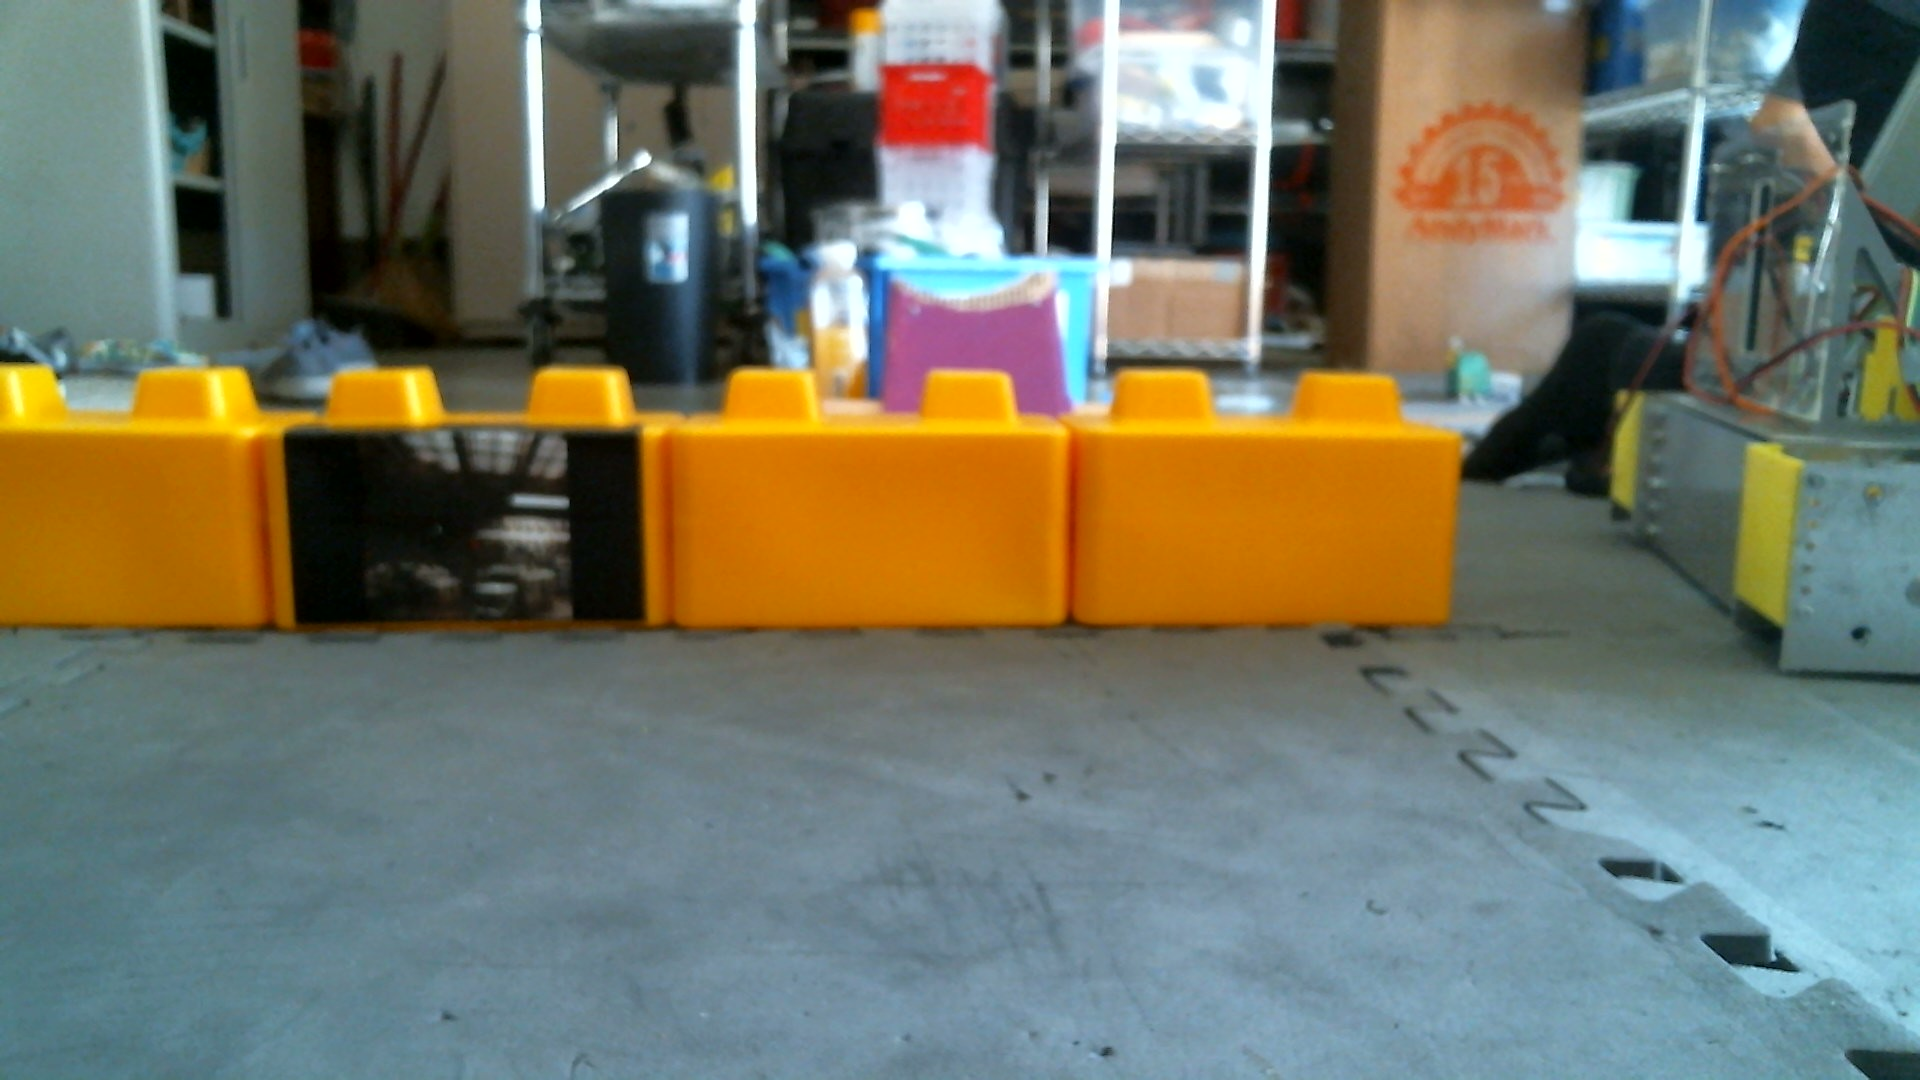skystone: (284, 401, 625, 622)
stone: (679, 368, 1065, 628), (1069, 382, 1447, 618), (7, 385, 237, 615)
